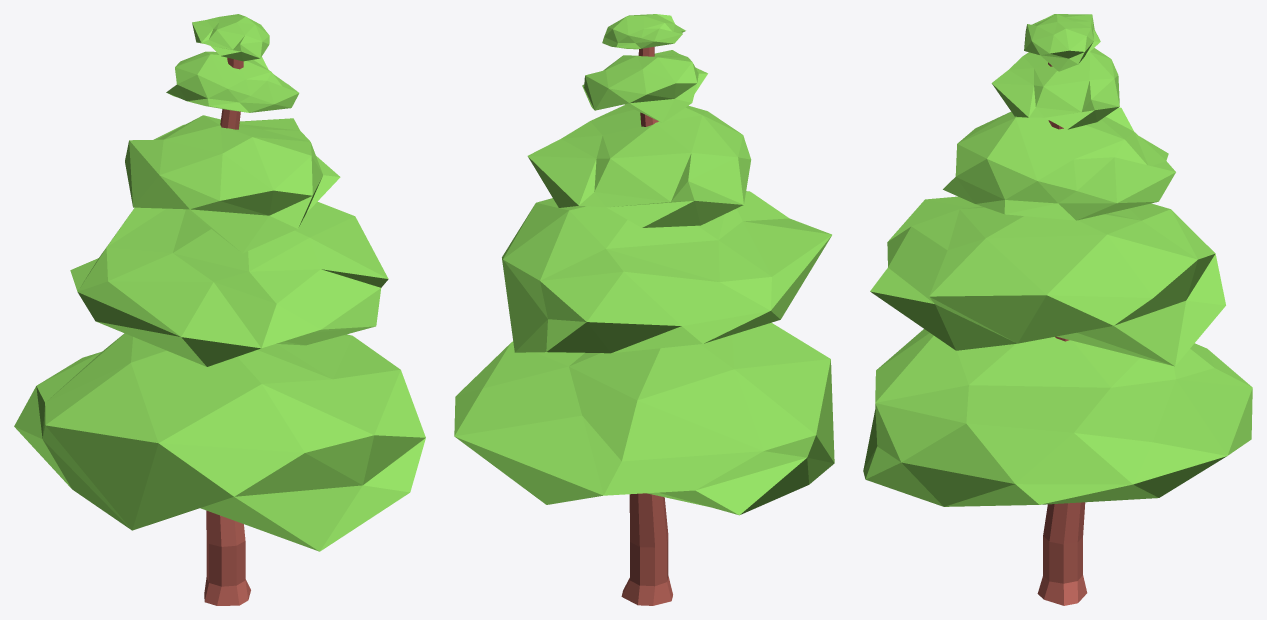
The model's file is Tree7_summer.FBX.
3 renders of one model, left to right at view 1: azimuth 30°, elevation 25°; view 2: azimuth 150°, elevation 25°; view 3: azimuth 270°, elevation 25°, orthographic.
Parts seen in each view (by area): view 1: tree7; view 2: tree7; view 3: tree7.
Part boxes in pixels (bbox=[...]): tree7: bbox=[14, 14, 425, 605]; tree7: bbox=[454, 14, 834, 605]; tree7: bbox=[863, 14, 1252, 605].
Size of the model in its own units: 5.47 by 8.71 by 5.34.
